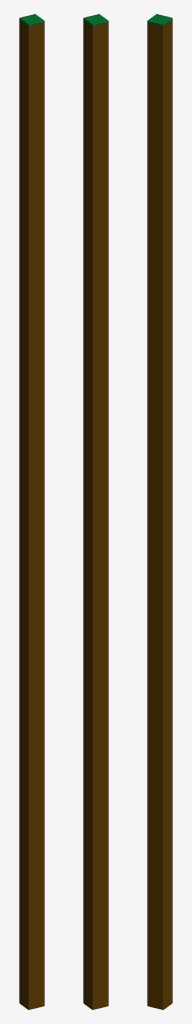
File: wall_long1.glb
3 renders of one model, left to right at view 1: azimuth 30°, elevation 25°; view 2: azimuth 210°, elevation 25°; view 3: azimuth 330°, elevation 25°, orthographic.
Parts seen in each view (by area): view 1: Cube.003; view 2: Cube.003; view 3: Cube.003.
Part boxes in pixels (<box>): Cube.003: <box>19,14,44,1009</box>; Cube.003: <box>83,14,108,1009</box>; Cube.003: <box>147,14,172,1009</box>.
Bounding box in the file's own units: 8.71 × 504 × 8.71.
